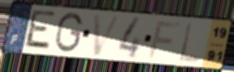4: (117, 16, 142, 61)
E: (22, 8, 58, 53)
F: (147, 20, 183, 60)
G: (53, 11, 84, 54)
L: (177, 21, 202, 64)
V: (91, 13, 124, 58)
